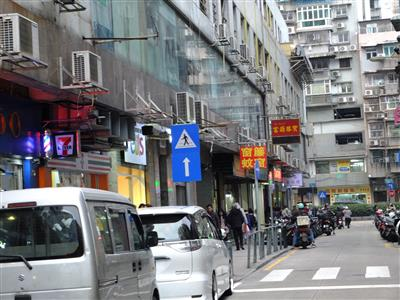oneway: (169, 150, 203, 184)
pedestrianCrossing: (167, 120, 202, 153), (316, 188, 327, 198)
